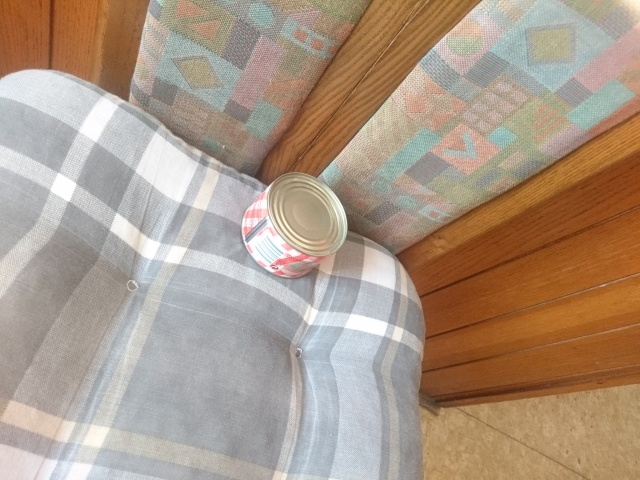Podravka Luncheon Meat 150g: (238, 169, 351, 282)
